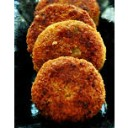cutlet: (33, 58, 106, 118), (34, 21, 106, 75), (30, 5, 94, 52)
